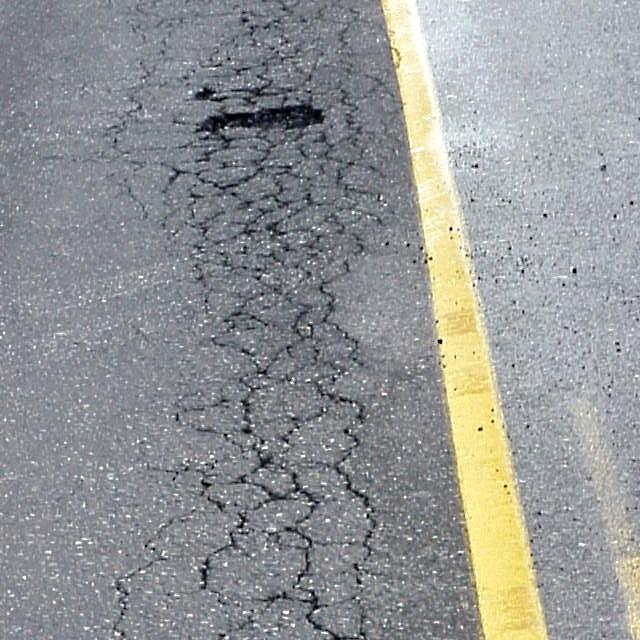retak_kulit_buaya: (126, 130, 416, 640), (124, 0, 374, 96)
